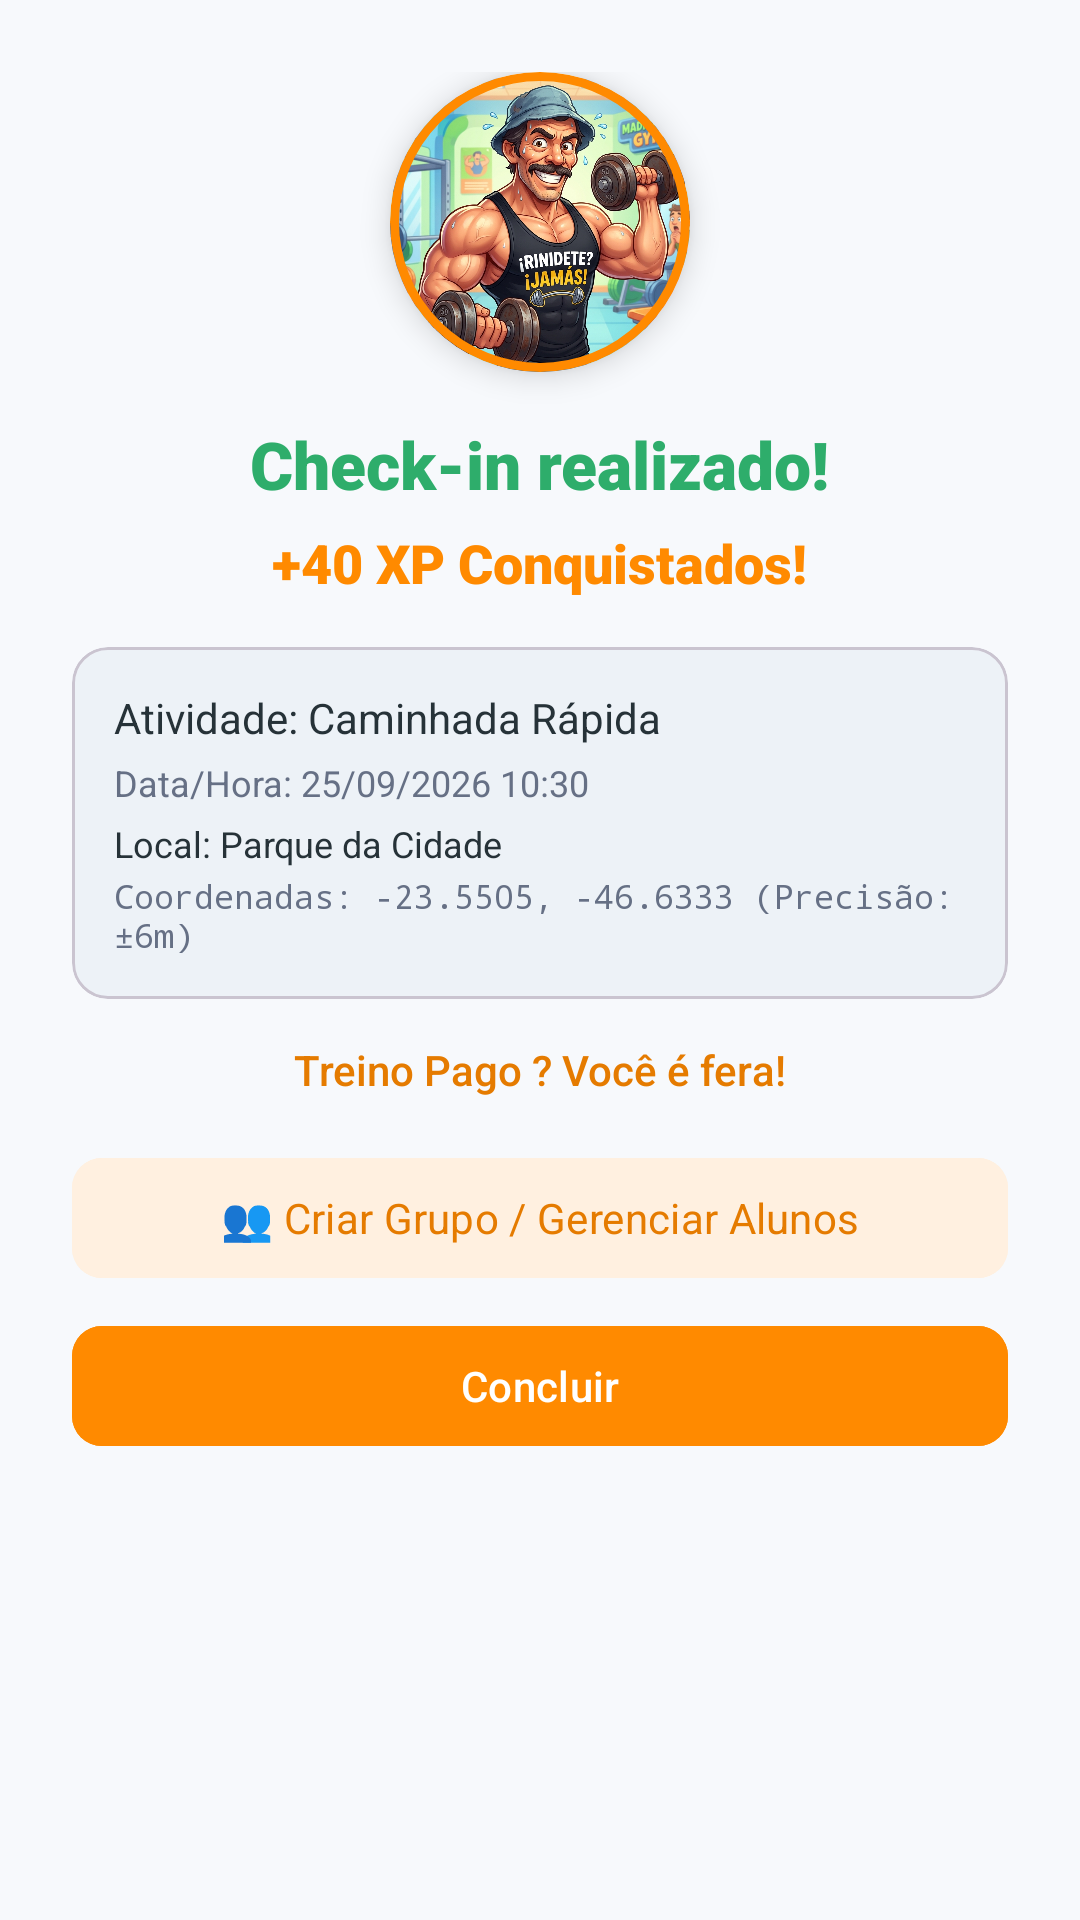

Icon click points for this 1080w x 1920h phone screenshot, format point (x, y):
Mascote Comemorando: point (540, 222)
